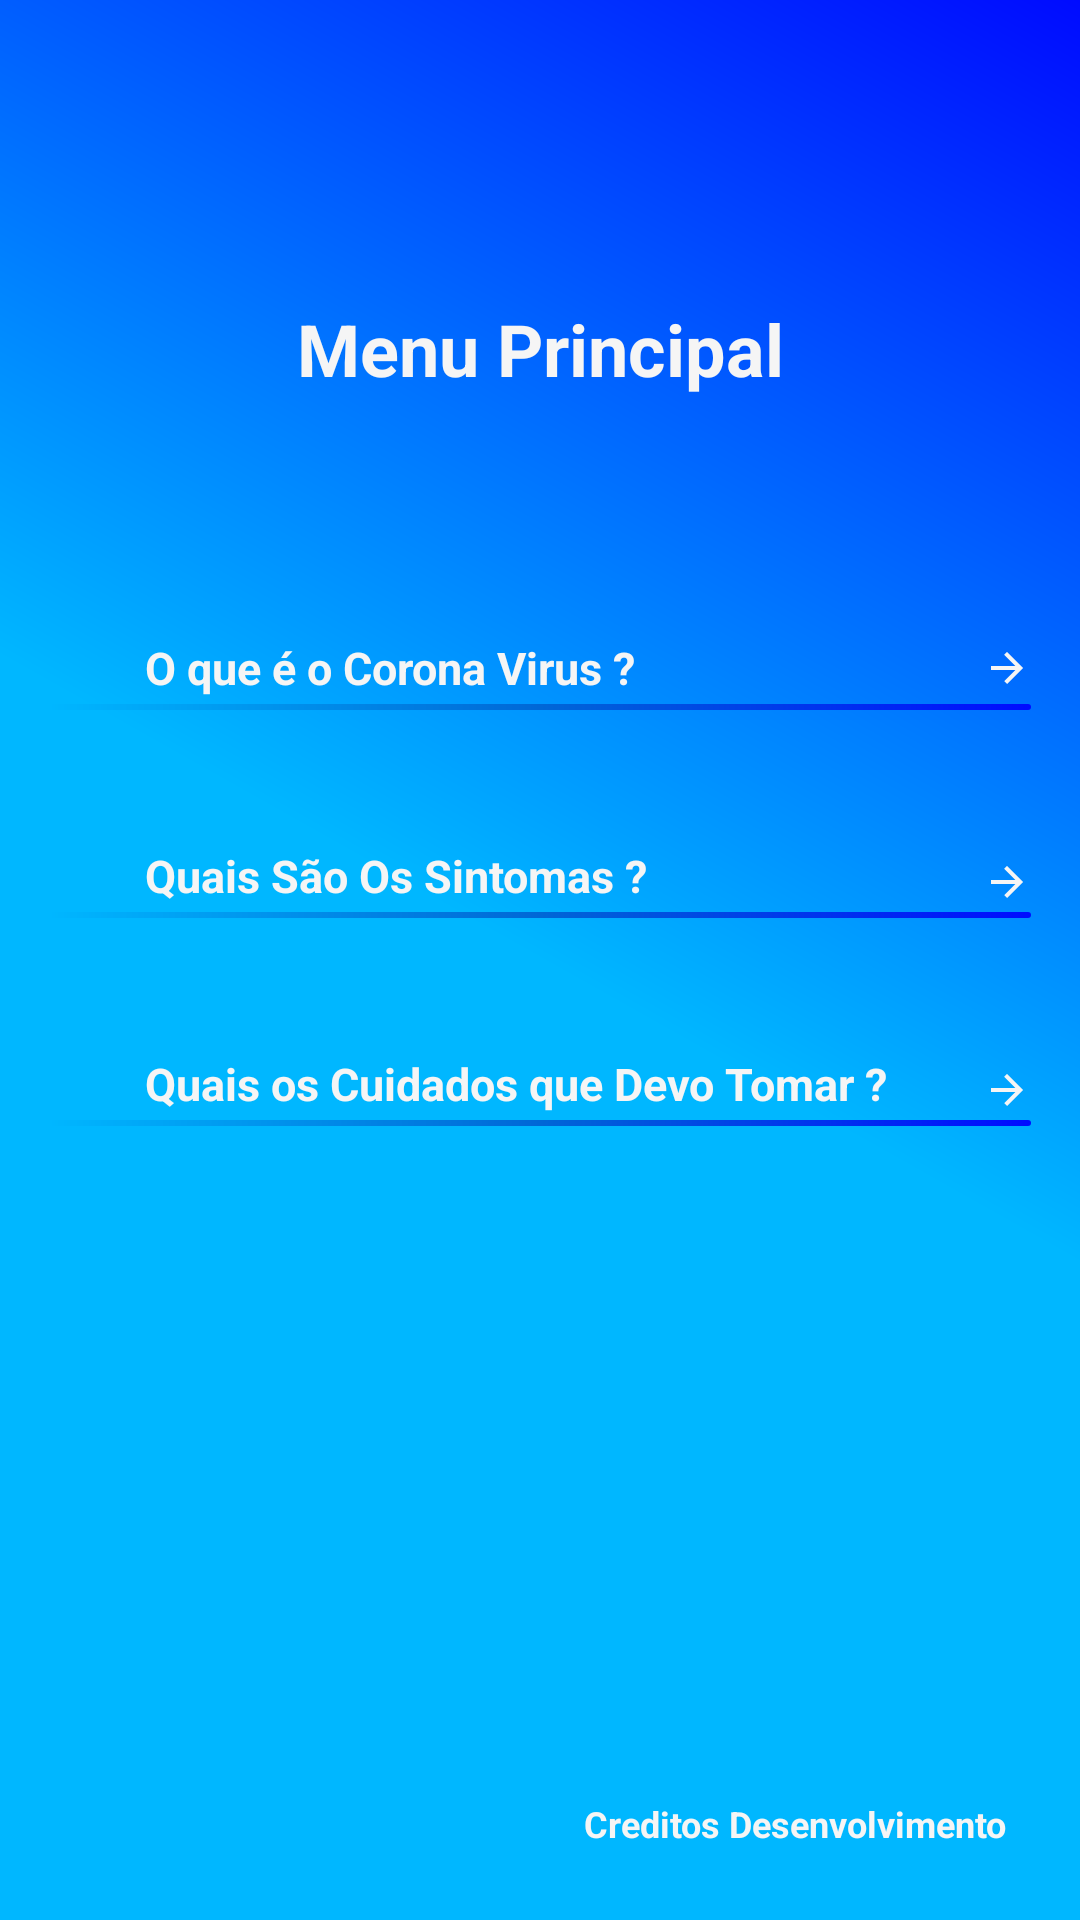

Icon click points for this 1080 x 1920 phone screenshot, format [x,y]:
proximo: [1007,668], [1007,882], [1007,1090]
